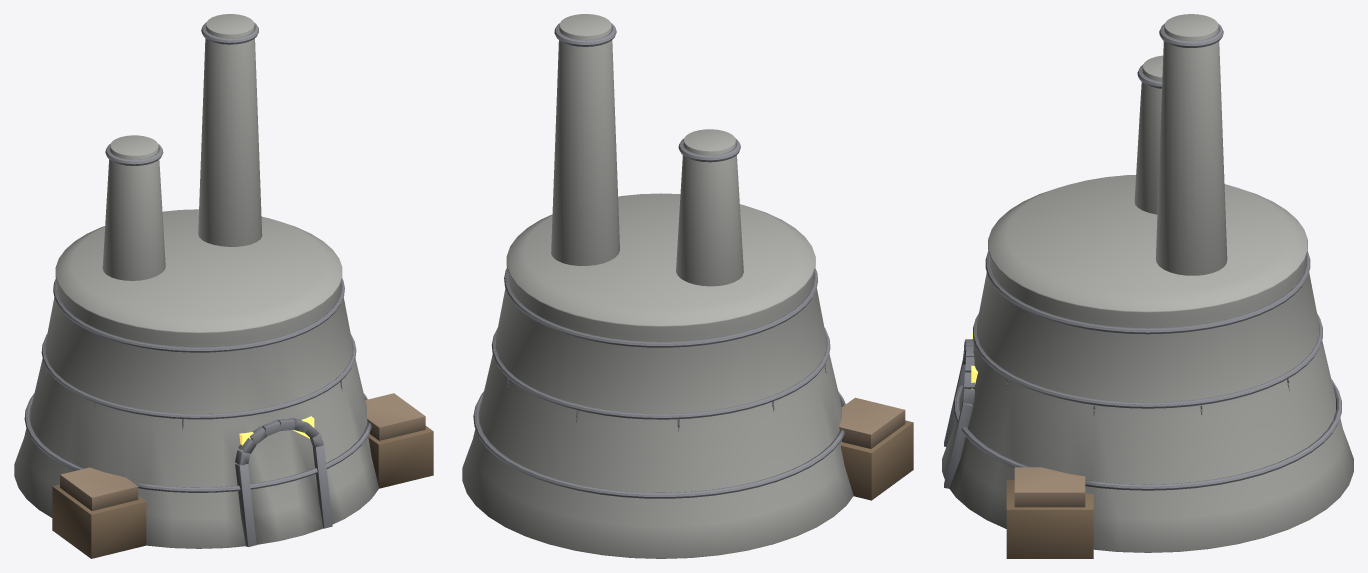
Rendered from dh_forge.glb.
The picture shows the model from 3 angles, left to right: view 1: azimuth 30°, elevation 25°; view 2: azimuth 150°, elevation 25°; view 3: azimuth 270°, elevation 25°; orthographic projection. The views are drawn at different scales.
Visible parts, largest first — view 1: dh_forge; view 2: dh_forge; view 3: dh_forge.
Part boxes in pixels (x1,y1,x2,y2): dh_forge: (14, 14, 433, 558); dh_forge: (462, 14, 913, 558); dh_forge: (942, 14, 1353, 558).
Bounding box in the file's own units: 16.2 × 19.04 × 15.14.
